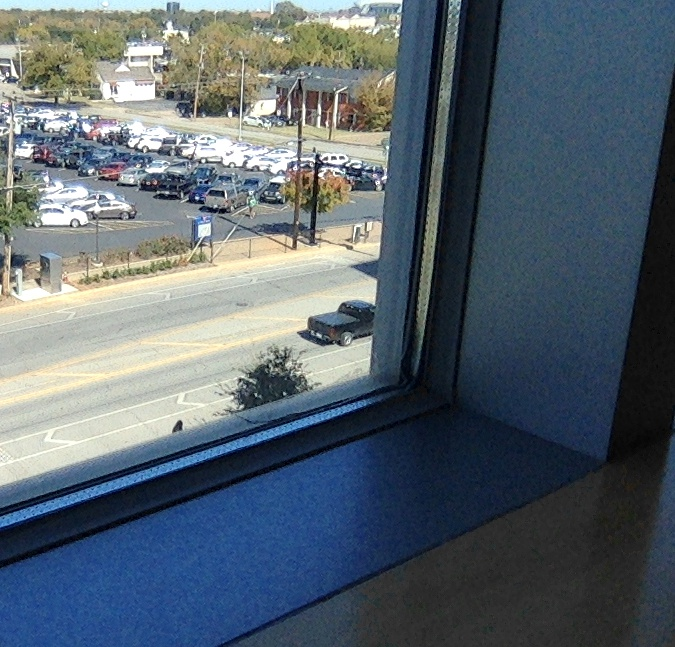car: (300, 300, 375, 347)
